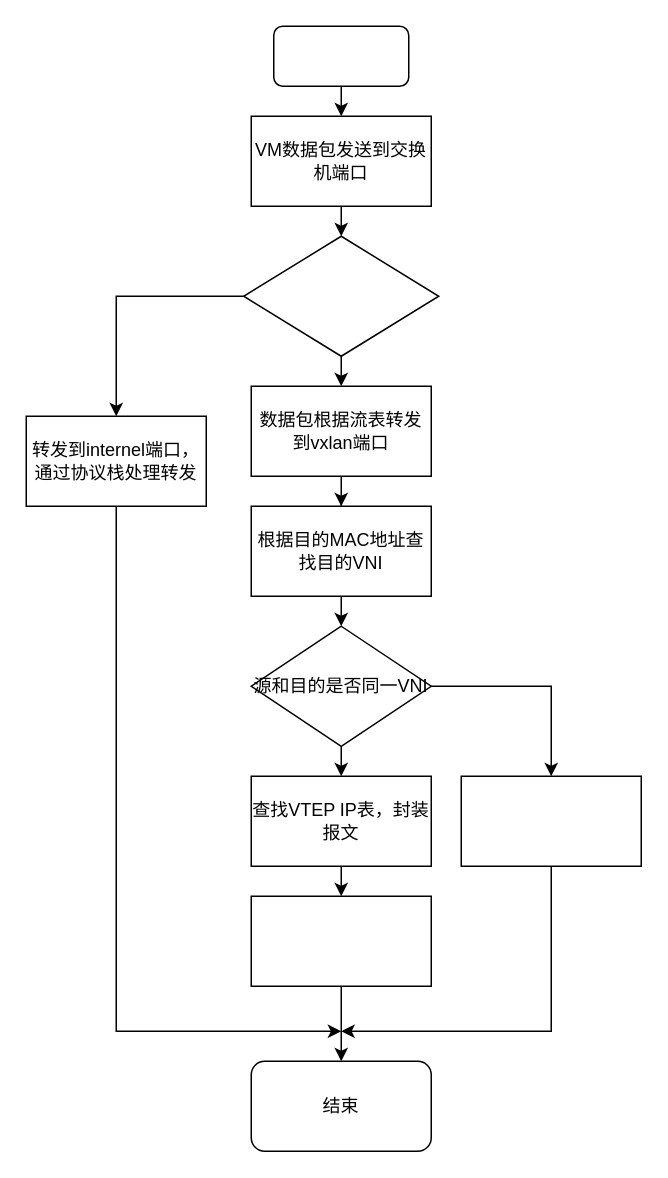
Image size: 668x1178. Some labels were removed from this diagram. Here are the shapes that lost their labels. From the top down, the centre of each, then its label:
At (x=340, y=55): "开始".
At (x=340, y=295): "是否为vxlan端口".
At (x=550, y=820): "丢弃报文".
At (x=340, y=940): "根据外层头从物理端口转发进入外部网络".
